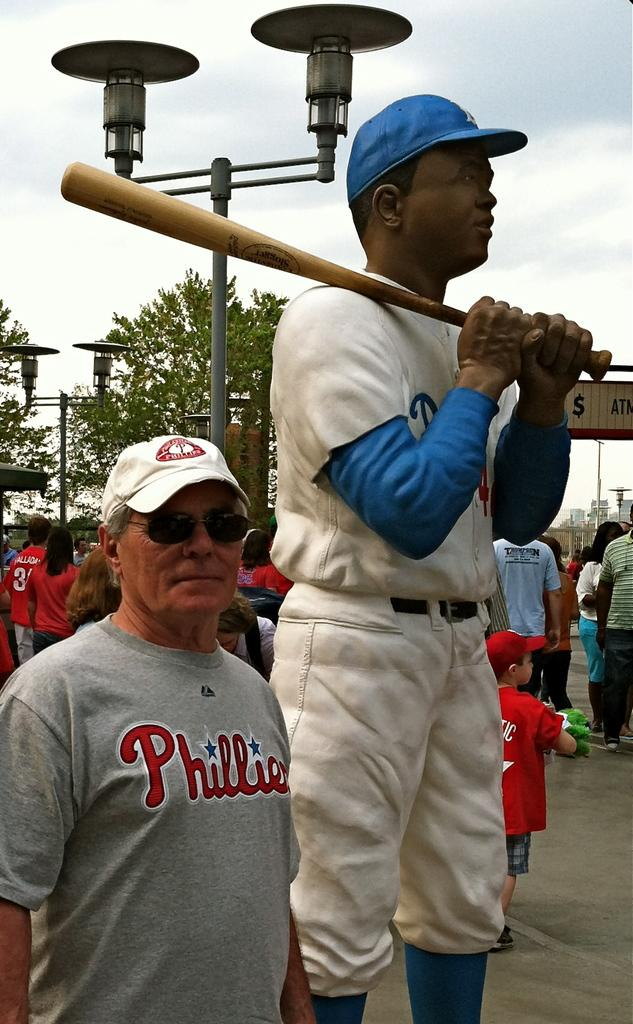Hat: (347, 91, 528, 206), (97, 428, 253, 524), (483, 625, 546, 670)
